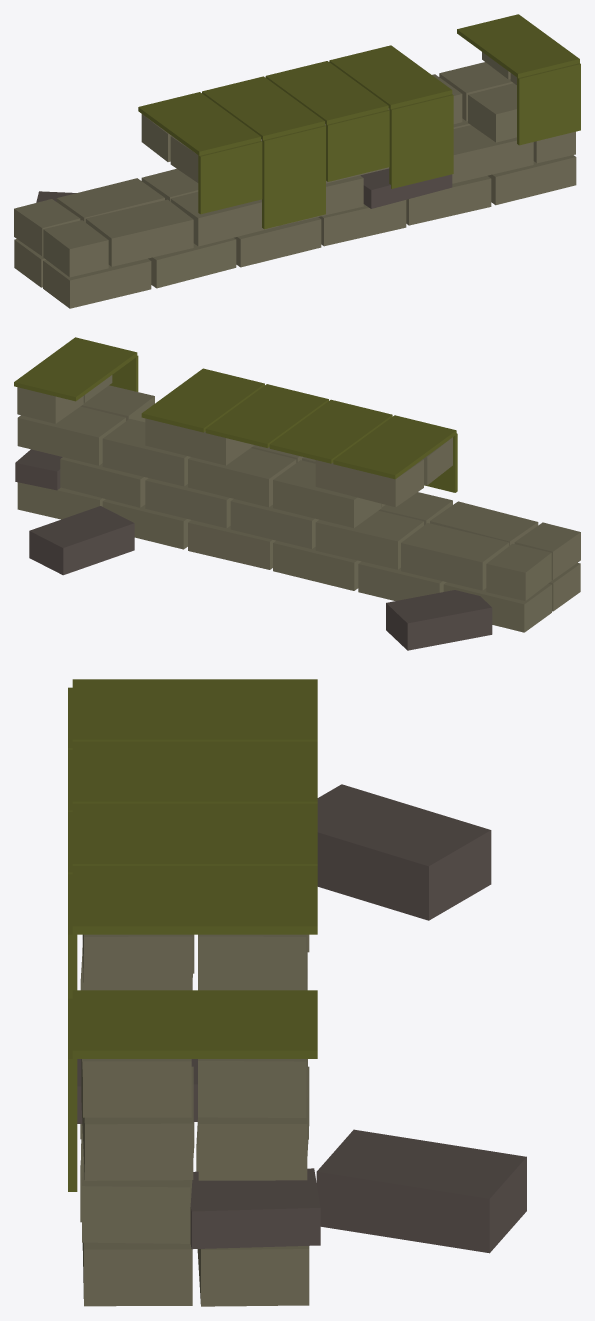
The model's file is SM_PretilTramo_v4_Red_e1_Danado_LOD0.fbx.
3 renders of one model, top to bottom at view 1: azimuth 30°, elevation 25°; view 2: azimuth 150°, elevation 25°; view 3: azimuth 270°, elevation 25°, orthographic. The views are drawn at different scales.
Parts seen in each view (by area): view 1: SM_pretil_azotea_v17_LOD0; view 2: SM_pretil_azotea_v17_LOD0; view 3: SM_pretil_azotea_v17_LOD0.
Boxes of the visible parts, left/top/right/bottom form: SM_pretil_azotea_v17_LOD0: left=14, top=14, right=580, bottom=308; SM_pretil_azotea_v17_LOD0: left=14, top=337, right=580, bottom=650; SM_pretil_azotea_v17_LOD0: left=68, top=679, right=526, bottom=1306.
Size of the model in its own units: 5.09 by 1.24 by 1.99.
